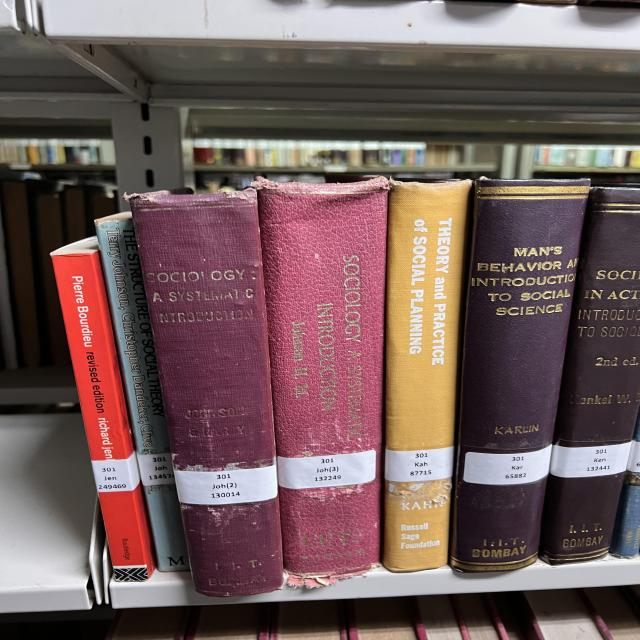Book: (127, 189, 283, 596), (450, 179, 590, 571), (255, 178, 388, 588), (540, 186, 640, 564), (52, 238, 155, 580), (383, 180, 472, 572), (95, 212, 188, 571)
Label: (175, 465, 278, 505), (277, 450, 377, 489), (463, 445, 552, 485), (550, 442, 632, 478), (385, 446, 453, 482), (92, 451, 140, 492), (137, 452, 175, 486)
